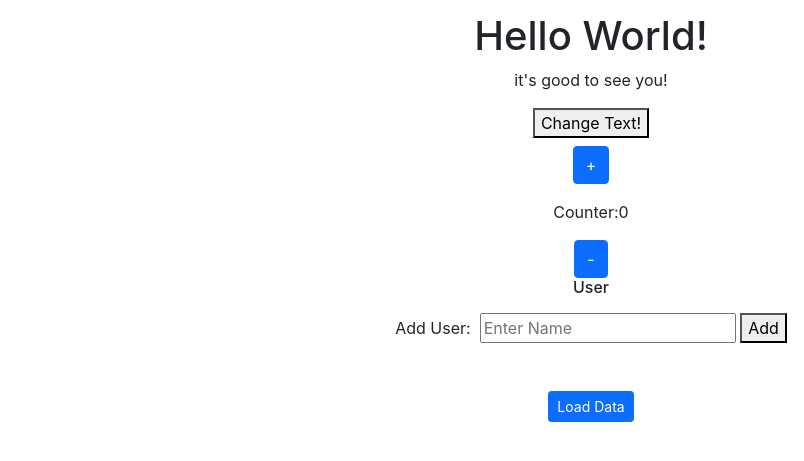
Test: Wait for load data
This screenshot has width=804, height=461.
Note: on button click
Click the button "Load Data" at coordinates (591, 407), box [548,391,634,422]
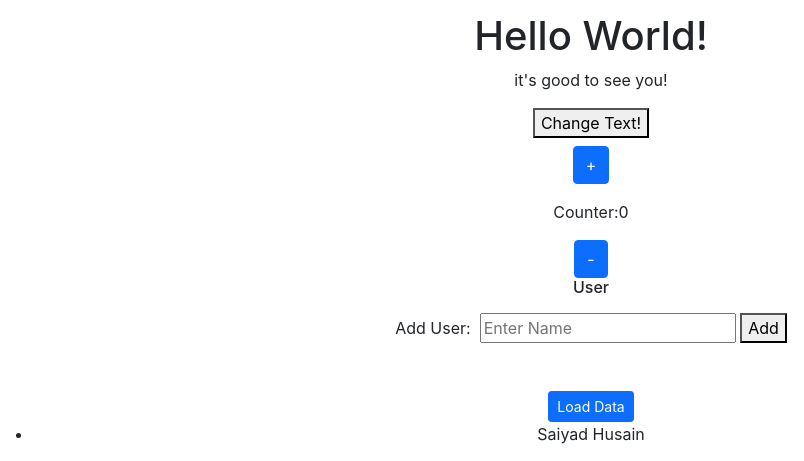
expect the list item with test id "list-item" is shown: met, box [537,424,645,444]
